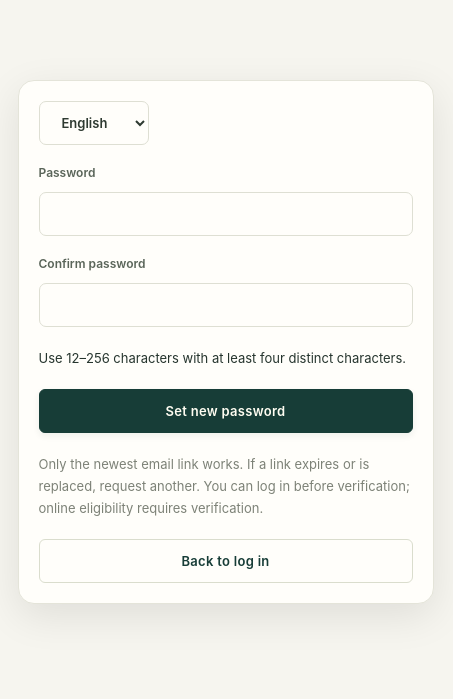
does not submit mismatched passwords and renders errors as text
Step 1. Type "first-test-password" into the password field labelled "Password" → (226, 214), box [38,192,412,236]
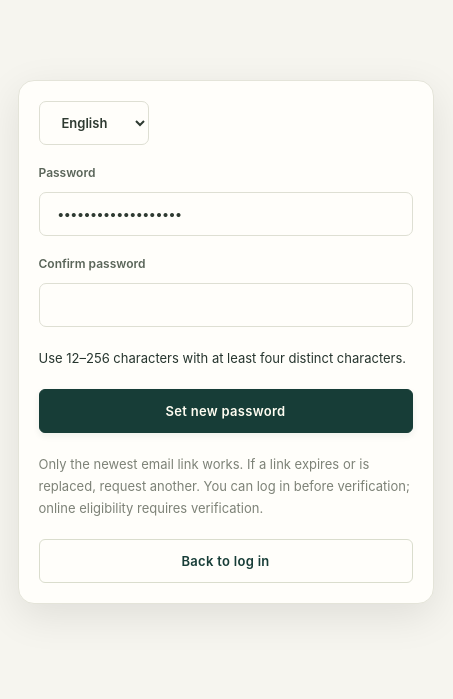
Step 2. Type "second-test-password" into the password field labelled "Confirm password" → (226, 305), box [38,283,412,327]
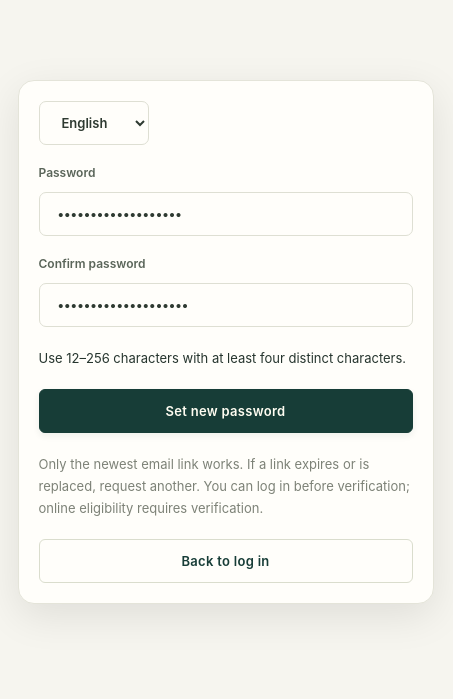
Step 3. Click the button "Set new password" → (226, 411), box [38,389,412,433]
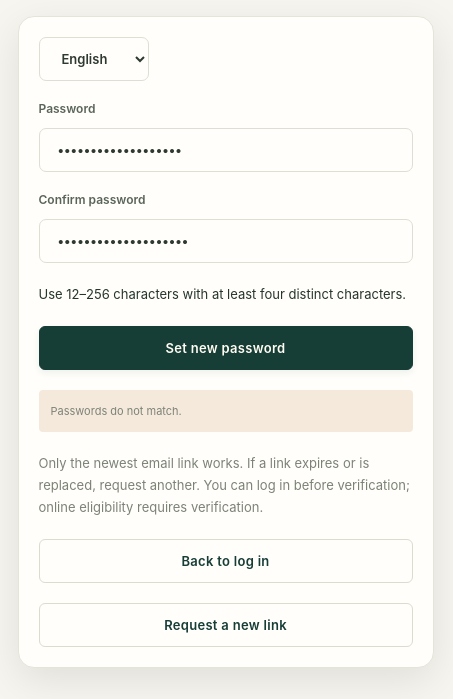
Now the message reads "Passwords do not match.", box [50,404,182,418]
